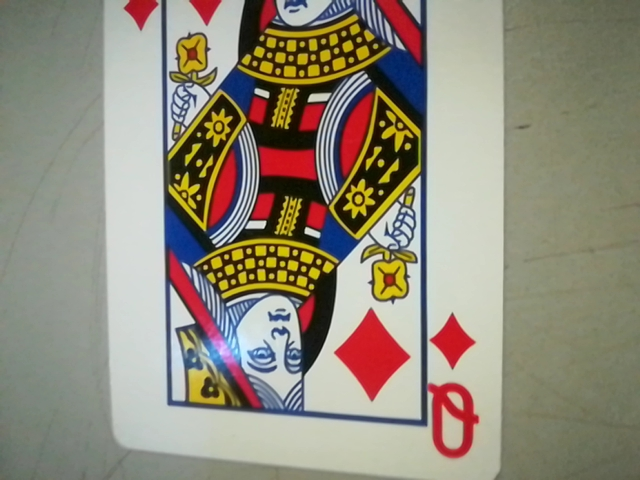fk q: (417, 308, 493, 470)
